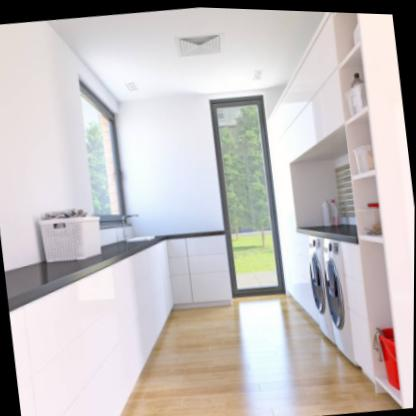Window: (207, 93, 285, 297), (78, 77, 128, 217)
